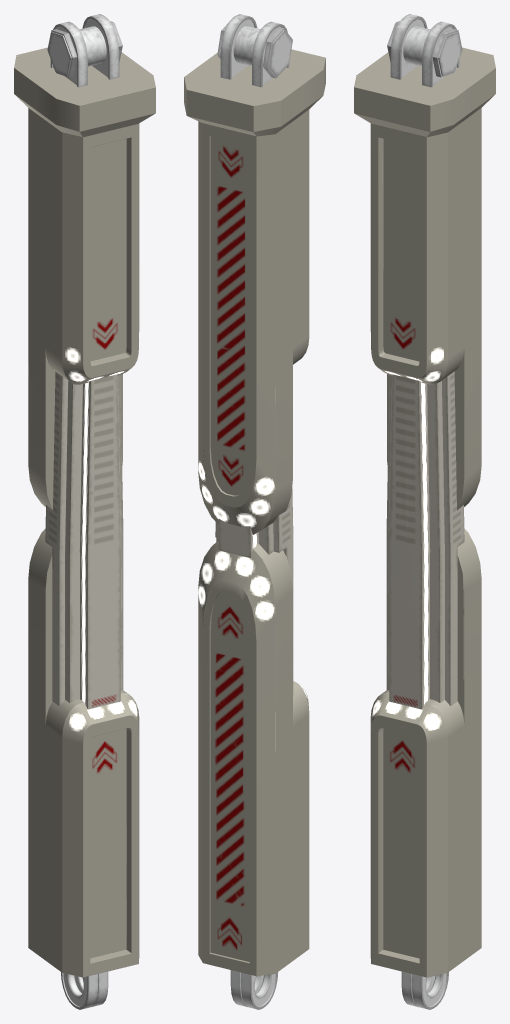
File: SM_PillarLeg.fbx
3 renders of one model, left to right at view 1: azimuth 30°, elevation 25°; view 2: azimuth 150°, elevation 25°; view 3: azimuth 330°, elevation 25°, orthographic.
Visible parts, largest first — view 1: SM_PillarLeg_LOD0; view 2: SM_PillarLeg_LOD0; view 3: SM_PillarLeg_LOD0.
Part boxes in pixels (x1,y1,x2,y2): SM_PillarLeg_LOD0: (14, 14, 155, 1009); SM_PillarLeg_LOD0: (184, 14, 325, 1009); SM_PillarLeg_LOD0: (354, 14, 495, 1009).
Bounding box in the file's own units: 36.76 × 44.45 × 356.
1 material, 1 textured.
